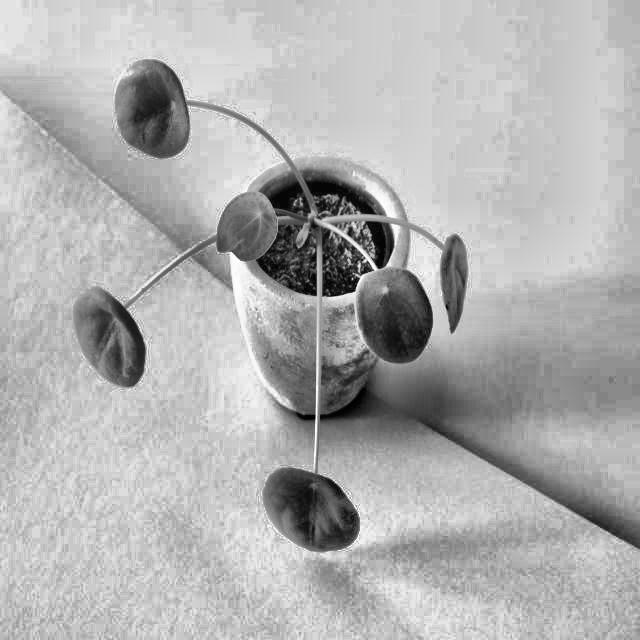plants: (78, 60, 484, 541)
